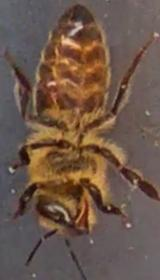varroa_mite: (38, 72, 66, 104)
